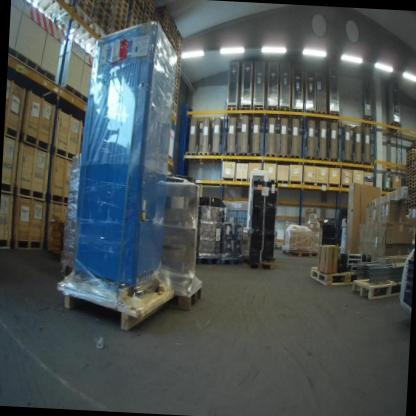pallet: (54, 277, 174, 337), (7, 45, 63, 88), (352, 270, 408, 306), (159, 271, 205, 313), (70, 21, 113, 56), (309, 265, 365, 291), (53, 80, 92, 117), (51, 5, 93, 37), (29, 0, 75, 19), (22, 130, 52, 154), (14, 235, 47, 254), (248, 256, 278, 276), (50, 145, 79, 163), (17, 187, 50, 202), (196, 251, 222, 269), (219, 253, 242, 270), (47, 192, 72, 205), (288, 248, 310, 262), (183, 147, 199, 166), (291, 105, 304, 128), (360, 114, 377, 131), (4, 123, 20, 141), (222, 148, 238, 166), (265, 101, 278, 123), (206, 147, 221, 166), (252, 101, 264, 124), (195, 148, 211, 165), (279, 102, 291, 124), (327, 107, 340, 127), (225, 101, 238, 121), (249, 148, 264, 165), (304, 104, 316, 123), (236, 149, 250, 165), (314, 107, 327, 124), (279, 245, 291, 263), (242, 104, 251, 126), (339, 156, 353, 169), (351, 157, 363, 172), (388, 121, 398, 137), (2, 181, 14, 194), (265, 151, 278, 163), (316, 154, 330, 165), (303, 154, 315, 166), (362, 160, 374, 172), (278, 151, 289, 164), (234, 174, 248, 184), (288, 153, 301, 163), (276, 177, 288, 186), (310, 249, 323, 257), (405, 151, 416, 160), (329, 157, 339, 166), (406, 147, 416, 156), (382, 185, 391, 193)
